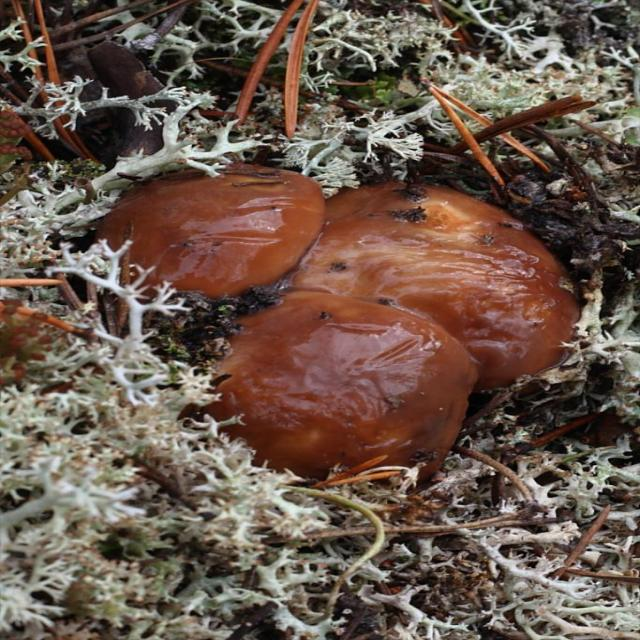Mushroom: (163, 292, 477, 504)
